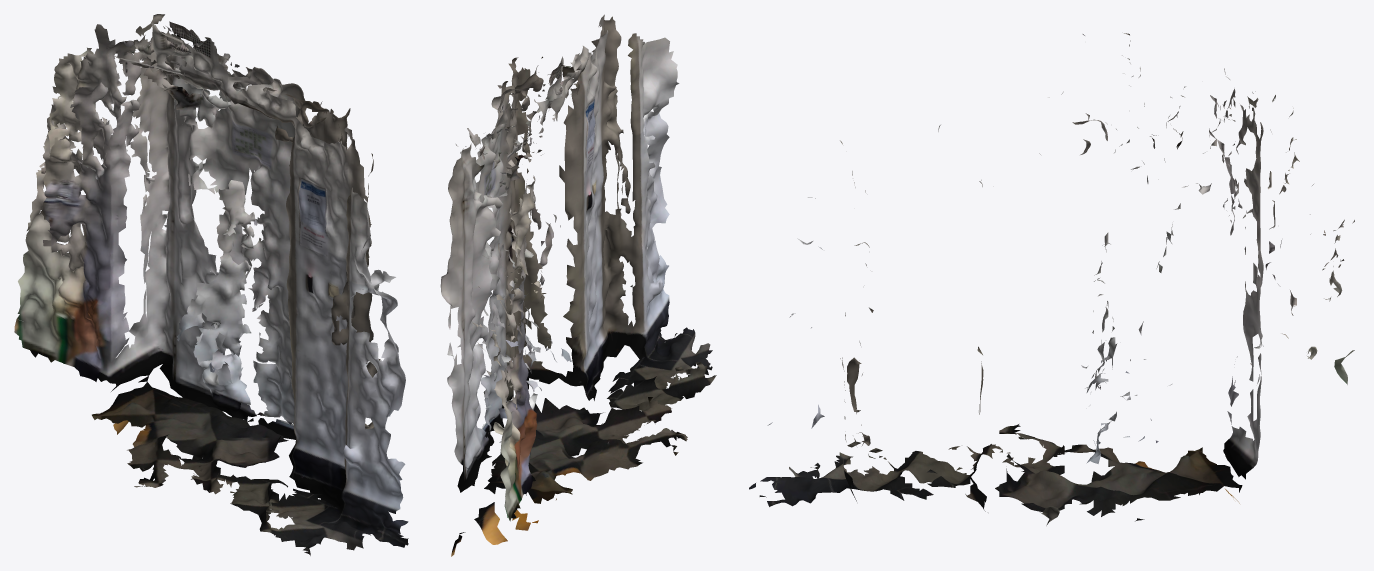
Rendered from 113583-KNE230-tex.glb.
3 views of the same model, side by side, from view 1: azimuth 30°, elevation 25°; view 2: azimuth 150°, elevation 25°; view 3: azimuth 270°, elevation 25° (orthographic). The views are drawn at different scales.
Parts seen in each view (by area): view 1: Node; view 2: Node; view 3: Node.
Part boxes in pixels (x1=…): Node: x1=14, y1=14, x2=408, y2=555; Node: x1=440, y1=14, x2=716, y2=556; Node: x1=749, y1=33, x2=1354, y2=525.
Bounding box in the file's own units: 1.42 × 3.16 × 3.43.
4 materials, 4 textured.
